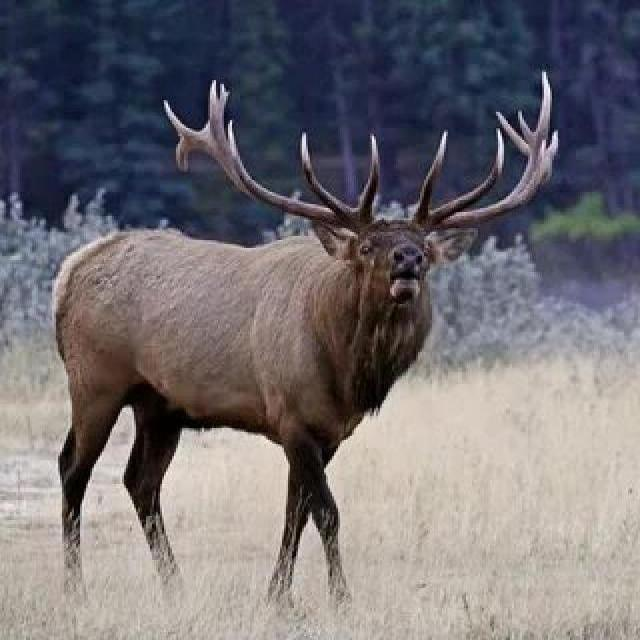deer: (28, 106, 496, 505)
